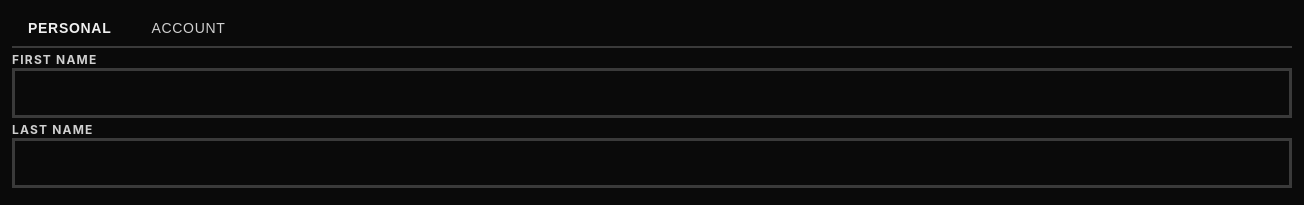
Test: Component Combinations Integration › Tabs with Forms › should handle forms in different tabs
This screenshot has width=1304, height=205.
Expected: the field labelled "First Name" is shown, [12,68,1292,118]
Expected: the field labelled "Last Name" is shown, [12,138,1292,188]
Click the tab "Account".
click(188, 29)  # box [135,12,242,46]
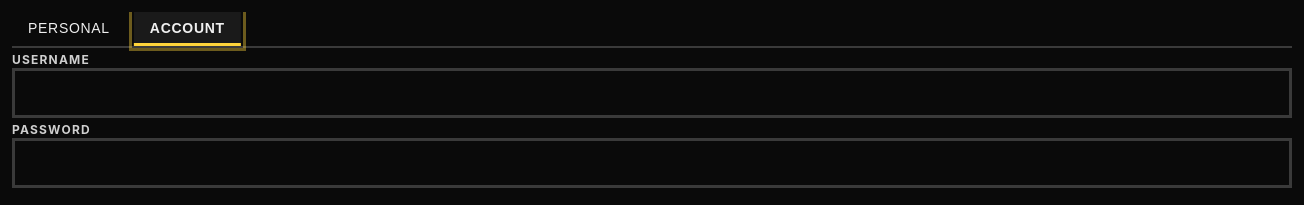
Expected: the field labelled "Username" is shown, [12,68,1292,118]
Expected: the label labelled "First Name" is gone
